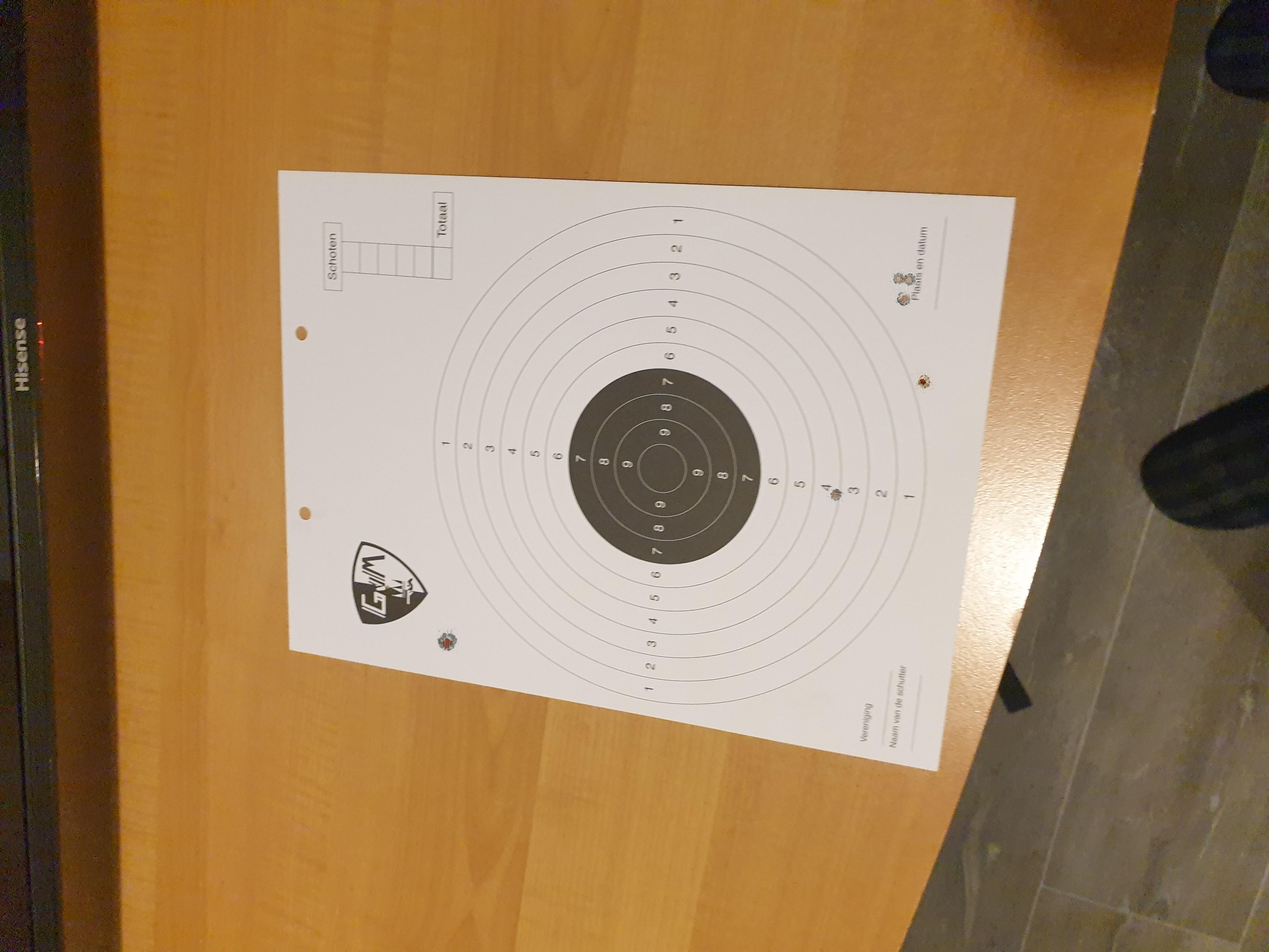hole: (437, 628, 457, 652), (916, 372, 931, 391), (828, 488, 845, 502), (896, 292, 911, 307), (904, 270, 917, 286), (892, 272, 904, 286)
